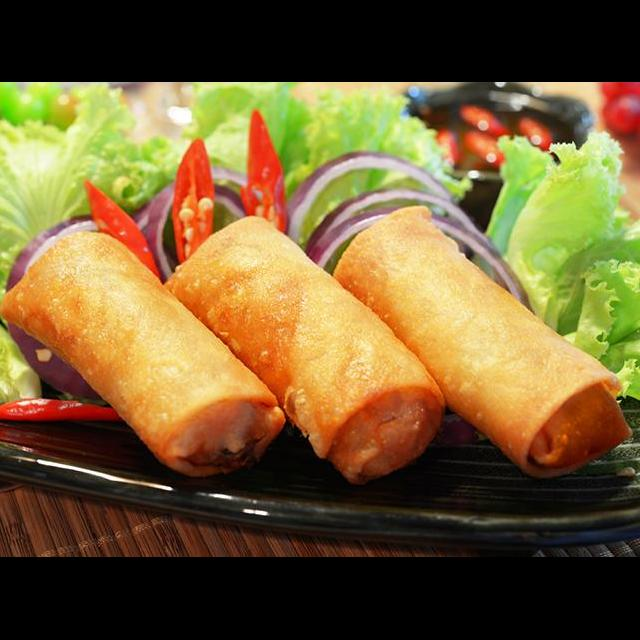cha gio: (326, 201, 636, 484), (152, 212, 450, 488), (0, 224, 292, 483)
